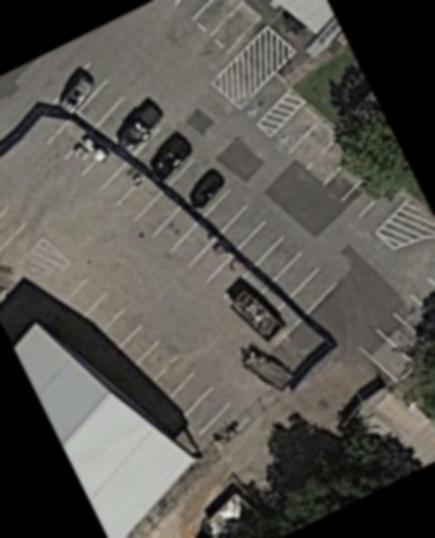parkingspot: (42, 61, 341, 320), (50, 273, 253, 456), (77, 148, 254, 302), (268, 102, 412, 237), (355, 266, 435, 386), (162, 0, 266, 61), (0, 196, 47, 275), (236, 71, 294, 129)
